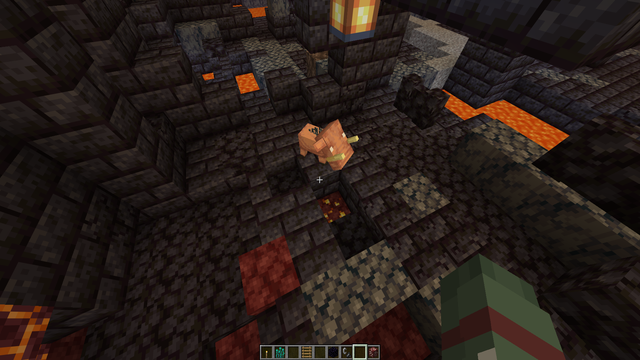nethergold: (315, 191, 355, 223)
